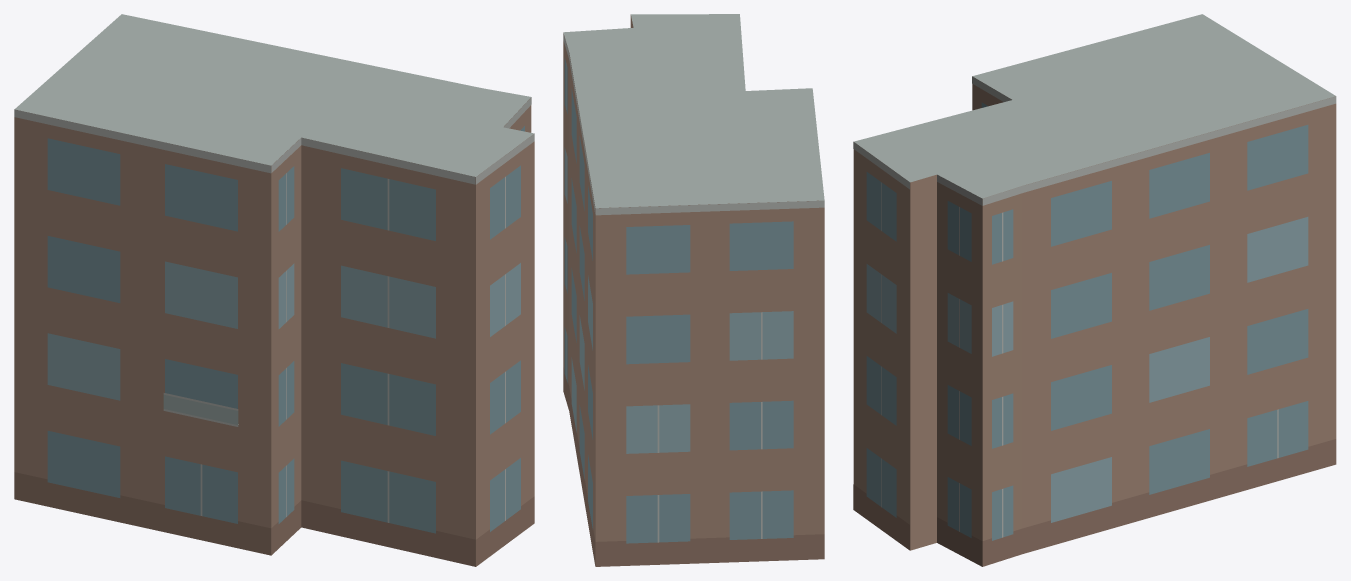
The model's file is survey-upis-32896086.glb.
The picture shows the model from 3 angles, left to right: view 1: azimuth 30°, elevation 25°; view 2: azimuth 150°, elevation 25°; view 3: azimuth 270°, elevation 25°; orthographic projection. The views are drawn at different scales.
Visible parts, largest first — view 1: survey-upis-32896086.tmp; view 2: survey-upis-32896086.tmp; view 3: survey-upis-32896086.tmp.
Part boxes in pixels (bbox=[...]): survey-upis-32896086.tmp: bbox=[14, 14, 534, 566]; survey-upis-32896086.tmp: bbox=[563, 14, 824, 566]; survey-upis-32896086.tmp: bbox=[853, 14, 1336, 566].
Size of the model in its own units: 13.23 by 12.3 by 14.62.
